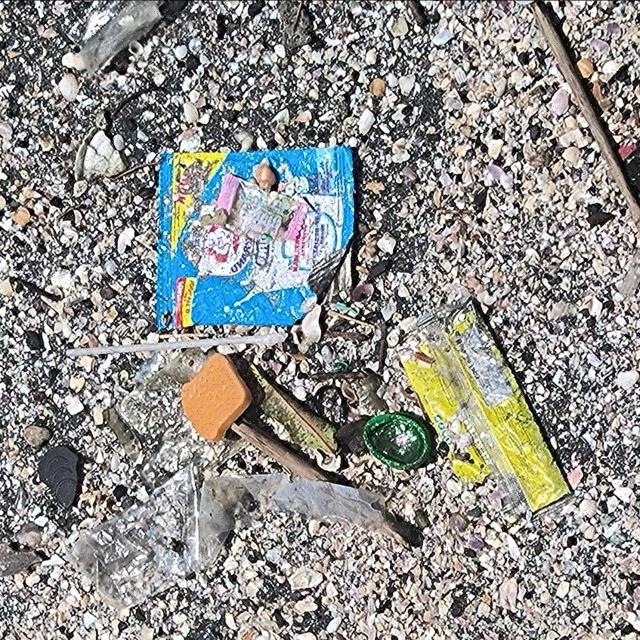plastic_waste: (393, 298, 574, 527), (155, 145, 357, 333), (67, 332, 289, 358), (363, 411, 433, 472)
